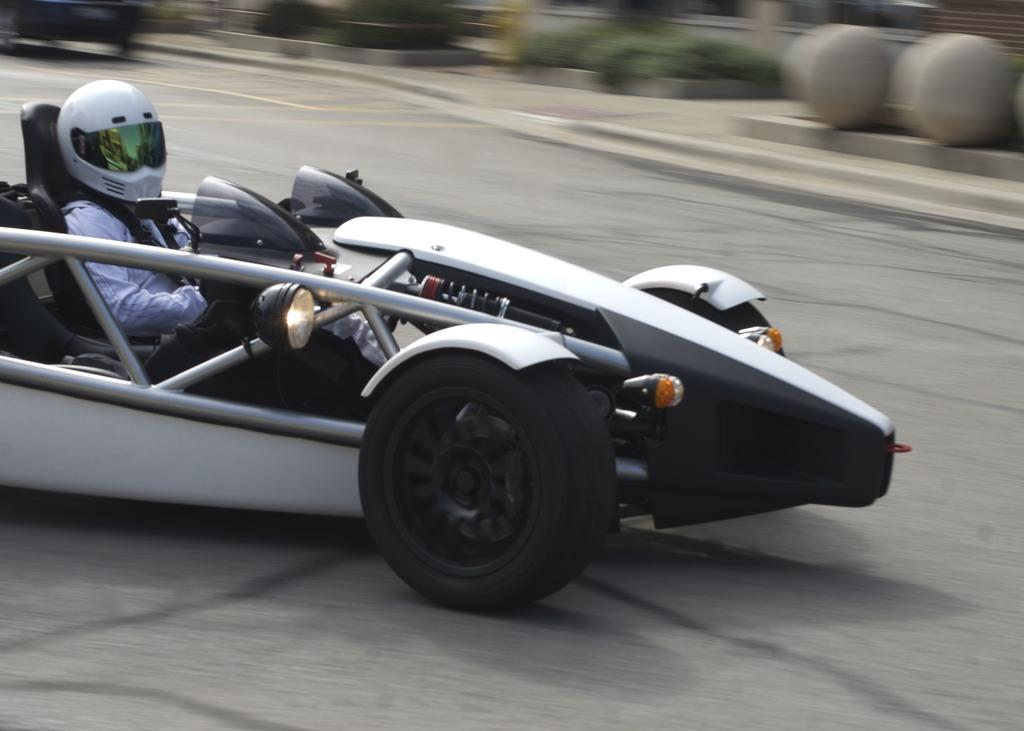helmet: (55, 78, 168, 205)
